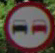No overtake: (4, 0, 51, 46)
